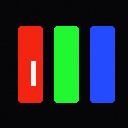4 line_v: (31, 61, 35, 85)
